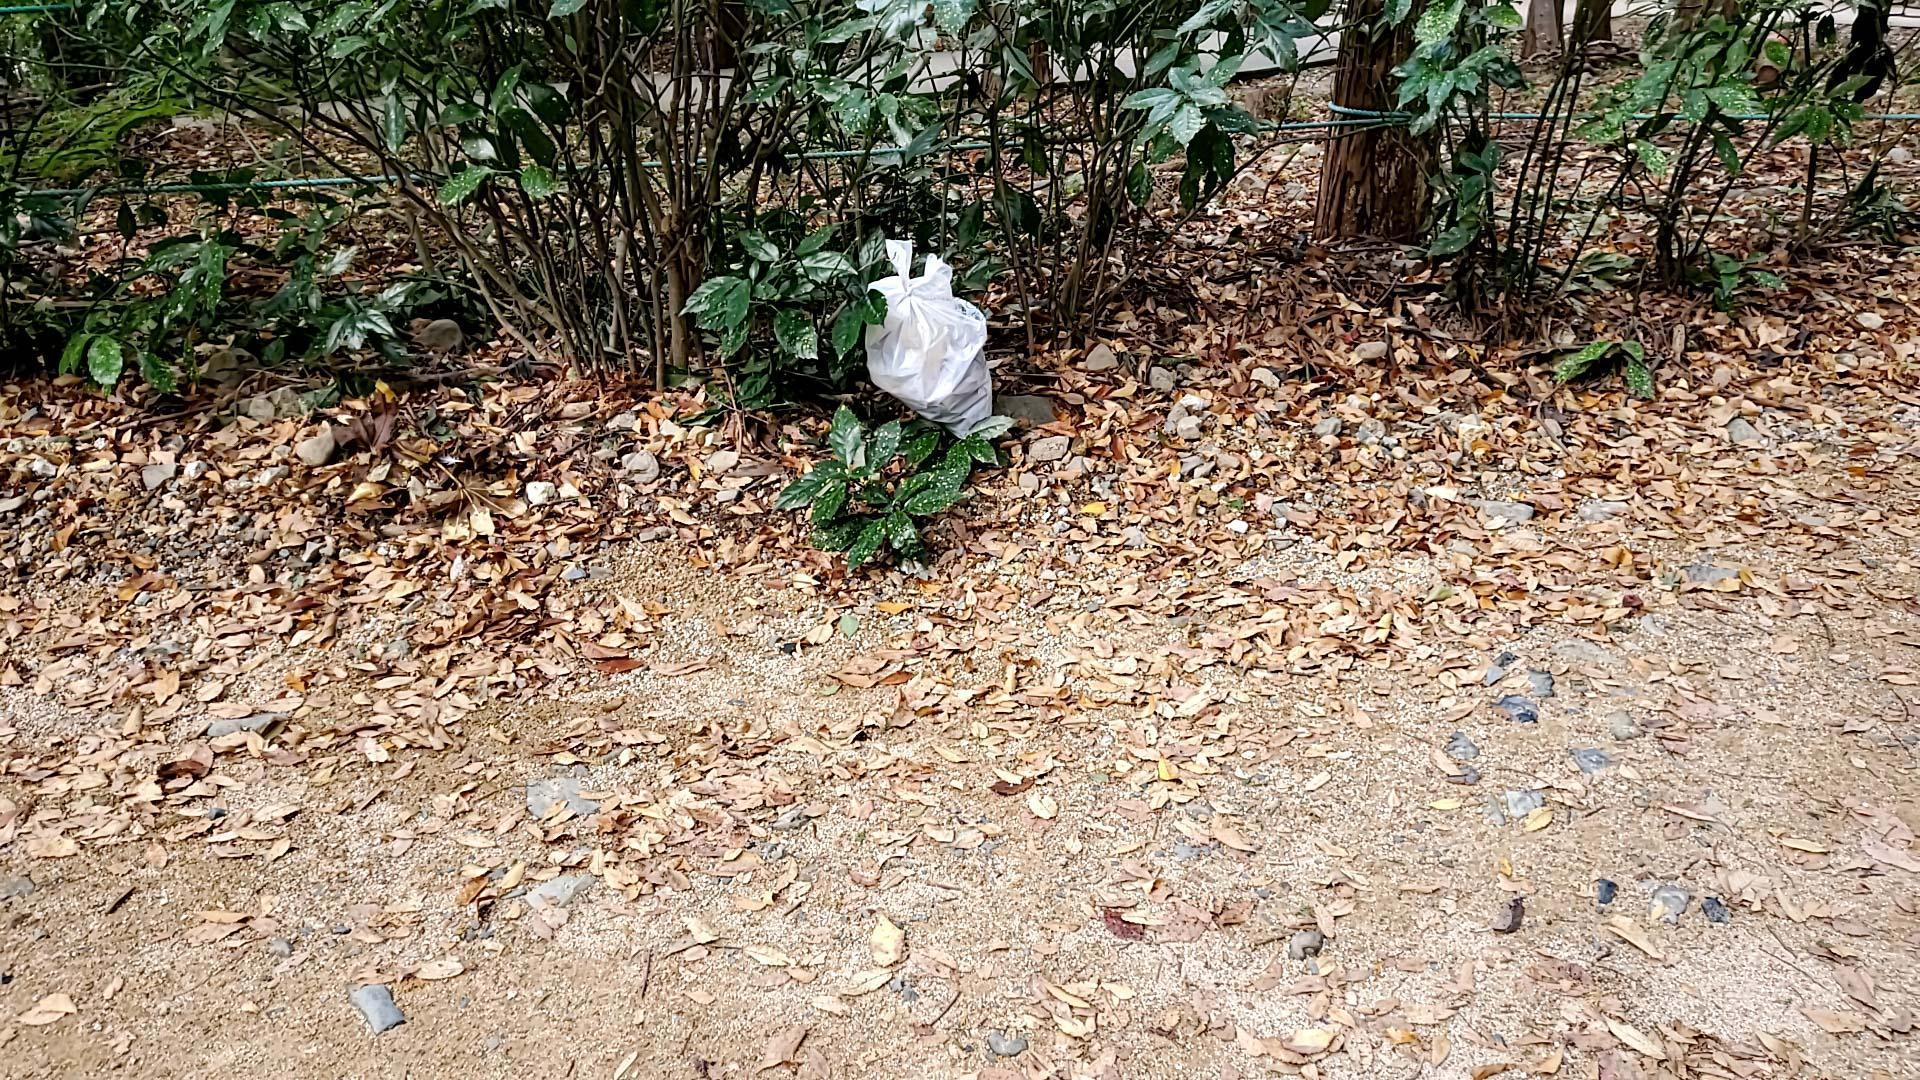white_bag: (851, 229, 1030, 458)
